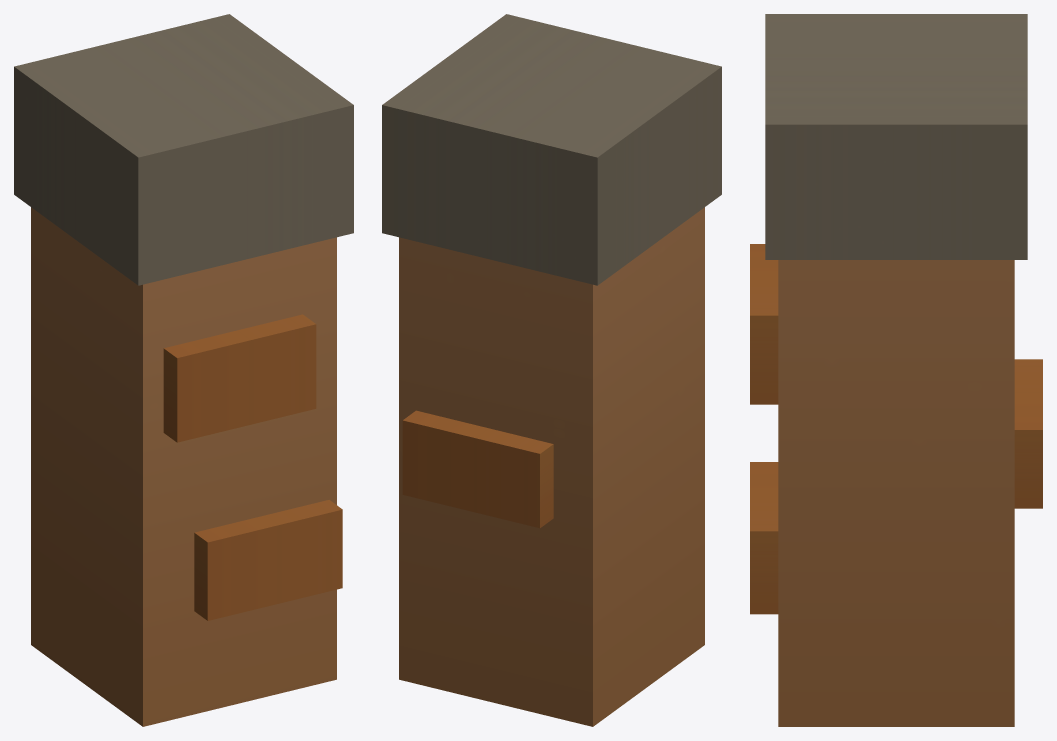
The model's file is SM_Wall_3.FBX.
3 renders of one model, left to right at view 1: azimuth 30°, elevation 25°; view 2: azimuth 150°, elevation 25°; view 3: azimuth 270°, elevation 25°, orthographic. The views are drawn at different scales.
Visible parts, largest first — view 1: SM_Wall_3; view 2: SM_Wall_3; view 3: SM_Wall_3.
Part boxes in pixels (left/top/right/bottom): SM_Wall_3: left=14, top=14, right=353, bottom=726; SM_Wall_3: left=382, top=14, right=721, bottom=726; SM_Wall_3: left=750, top=14, right=1042, bottom=726.
Size of what is drawn, in the model's own units: 88 by 98.26 by 225.
